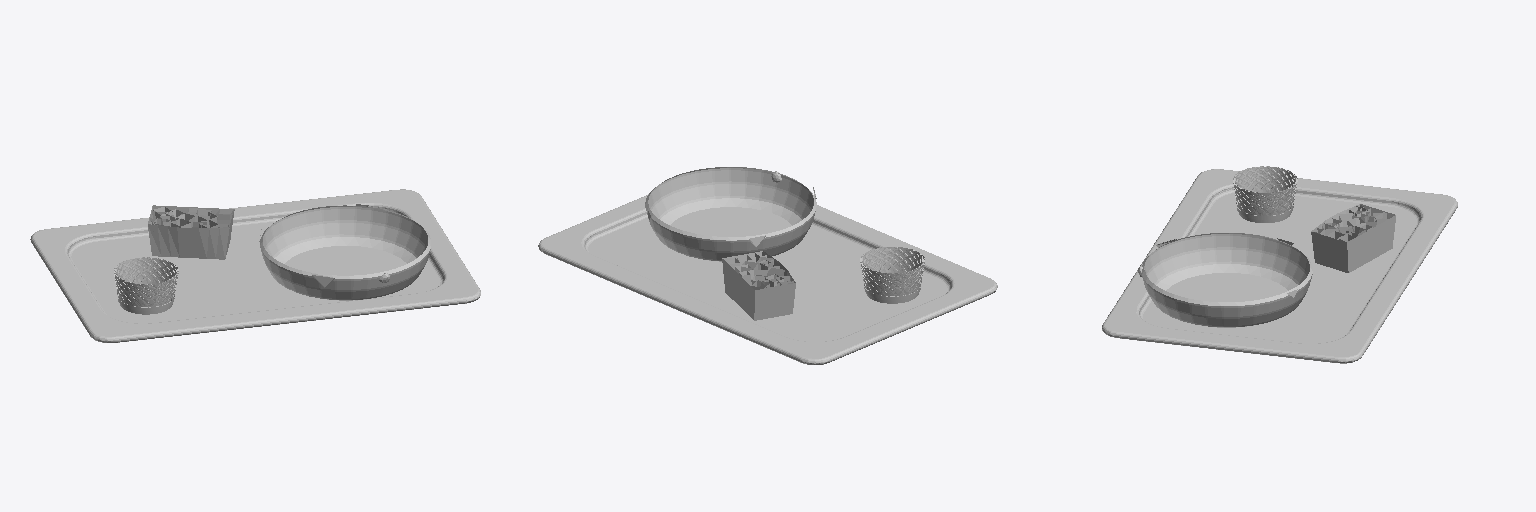
Rendered from comida3cuartos.obj.
The picture shows the model from 3 angles: view 1: azimuth 30°, elevation 25°; view 2: azimuth 150°, elevation 25°; view 3: azimuth 270°, elevation 25°; orthographic projection.
Visible parts, largest first — view 1: Sphere.001; view 2: Sphere.001; view 3: Sphere.001.
Boxes of the visible parts, x1=… form: Sphere.001: x1=30, y1=189, x2=480, y2=342; Sphere.001: x1=538, y1=167, x2=997, y2=364; Sphere.001: x1=1102, y1=166, x2=1457, y2=363.
Bounding box in the file's own units: 5.19 × 0.4948 × 4.1.